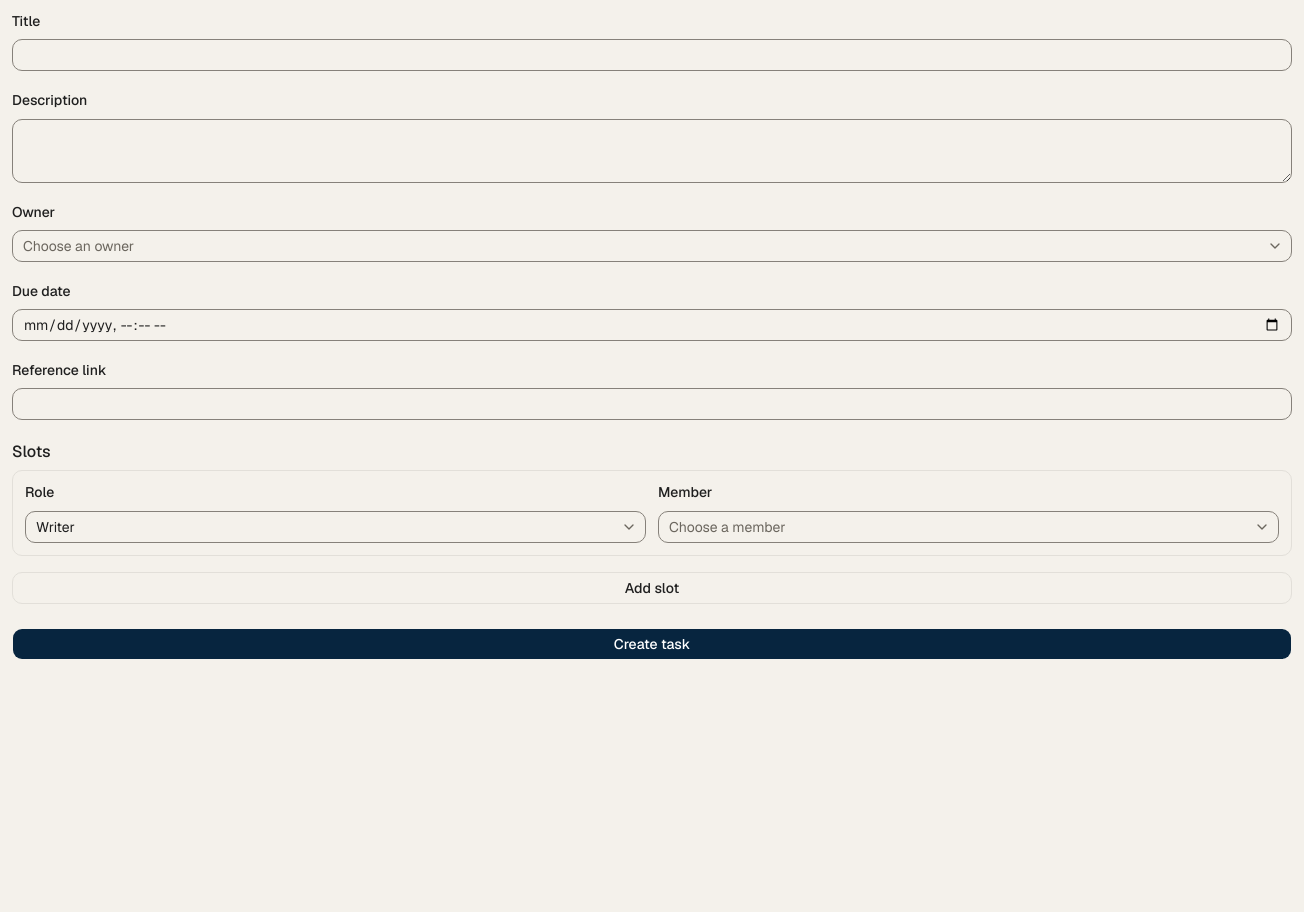
it: TaskForm › adds and removes slot rows, keeping at least one
The image size is (1304, 912).
Expected: the number of dropdowns named "Role" is 1, [25, 510, 646, 542]
Click the button "Add slot". click: (652, 588)
box: [12, 572, 1292, 604]
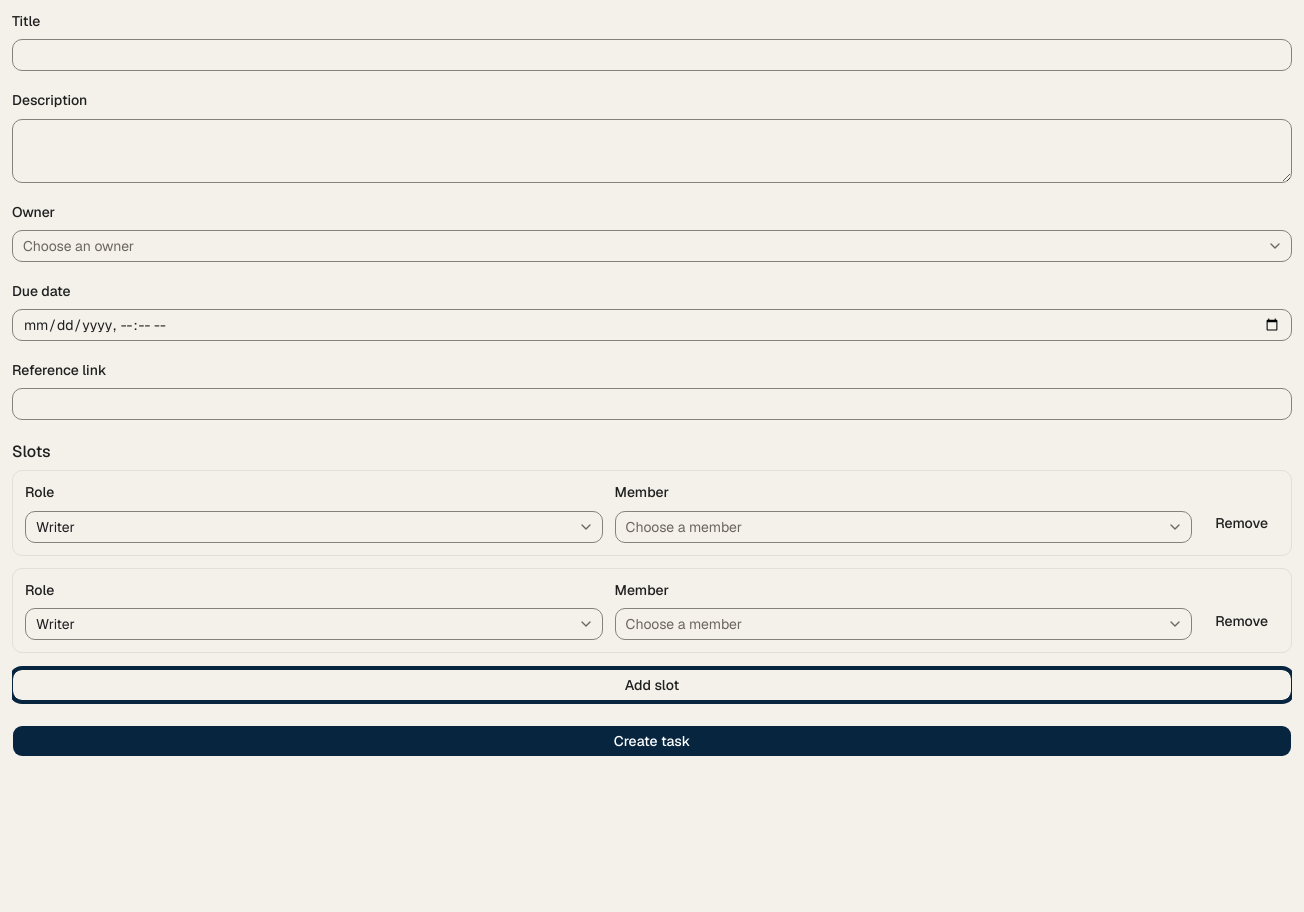
Expected: the number of dropdowns named "Role" is 2, [25, 510, 603, 542]; [25, 608, 603, 640]
Expected: the number of buttons named "Remove slot" is 2
Click the button with aria-label "Remove slot". click: (1242, 523)
box: [1204, 507, 1279, 539]
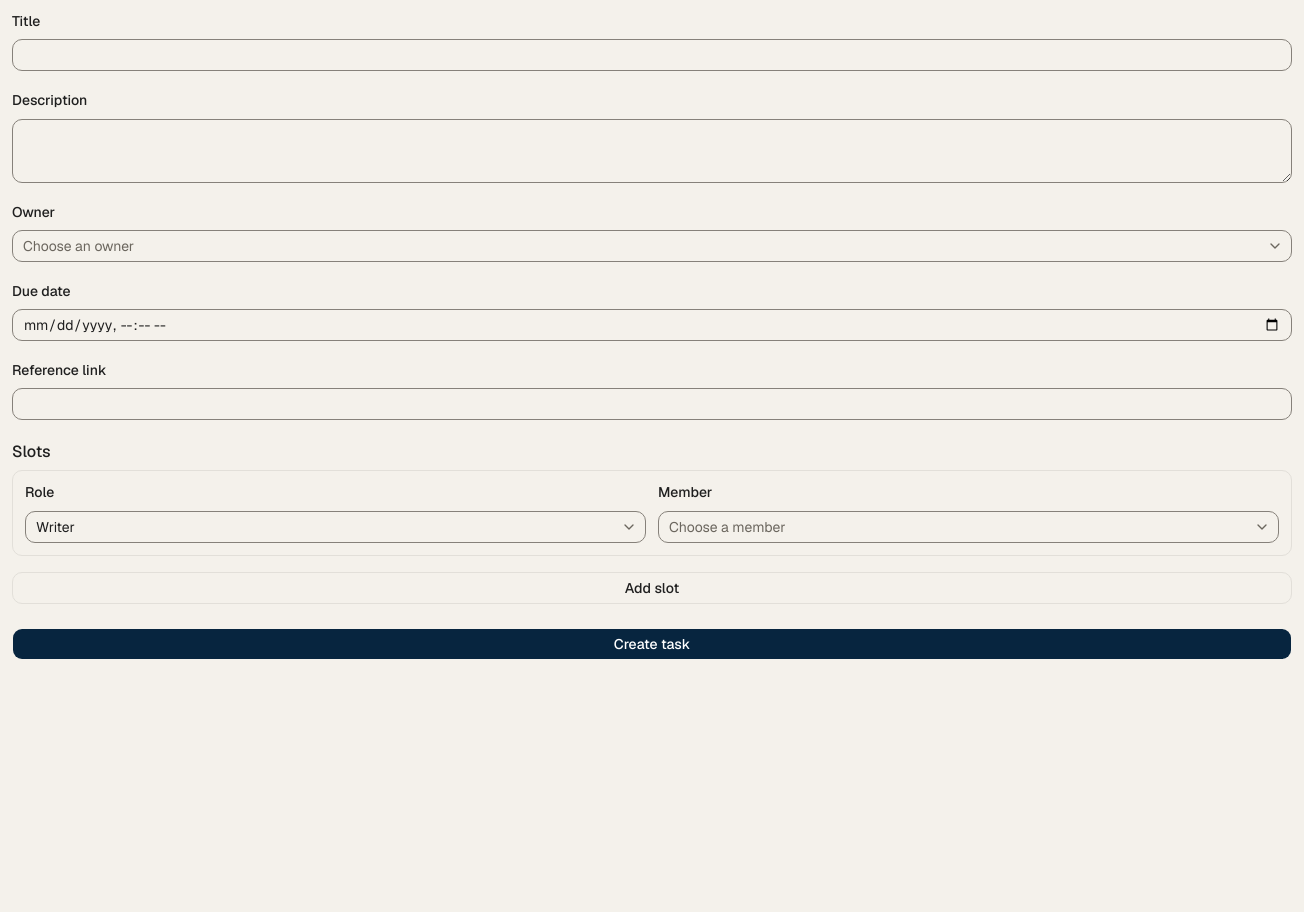
Expected: the number of dropdowns named "Role" is 1, [25, 510, 646, 542]
